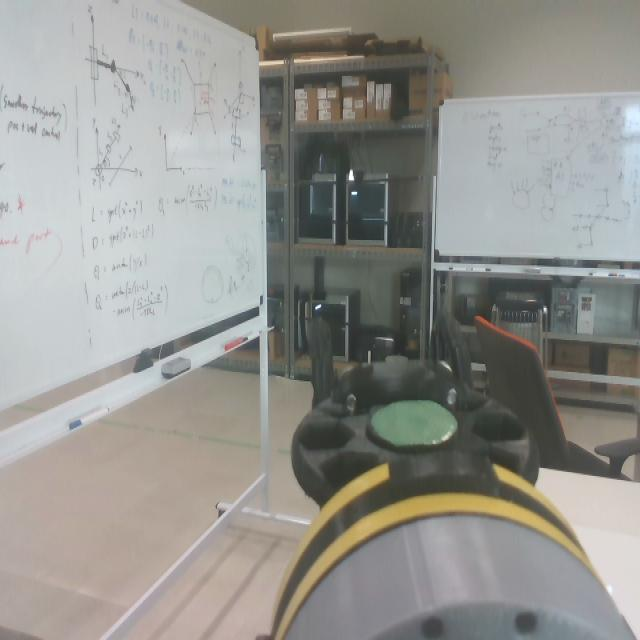body_connector: (279, 516, 638, 640)
connection: (257, 452, 633, 640)
leg: (267, 304, 595, 640)
leg_connector: (267, 449, 596, 640)
marker: (369, 397, 456, 445)
